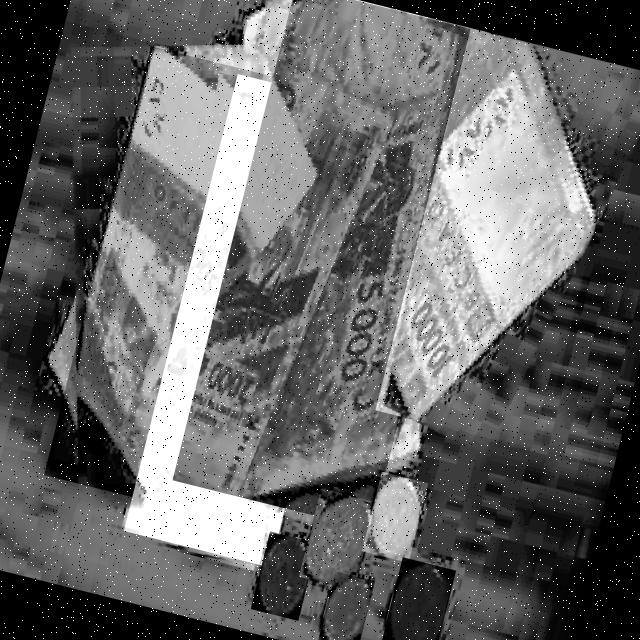derem: (322, 576, 370, 640)
fukk: (370, 476, 418, 556)
junni: (240, 0, 457, 497)
juroom derem: (389, 562, 446, 640)
niaar junni: (392, 29, 592, 419)
niaari derem: (258, 537, 308, 616)
niaari fukk: (305, 496, 371, 582)
nient teemeer: (137, 74, 353, 567)
teemeer: (75, 47, 272, 507)
